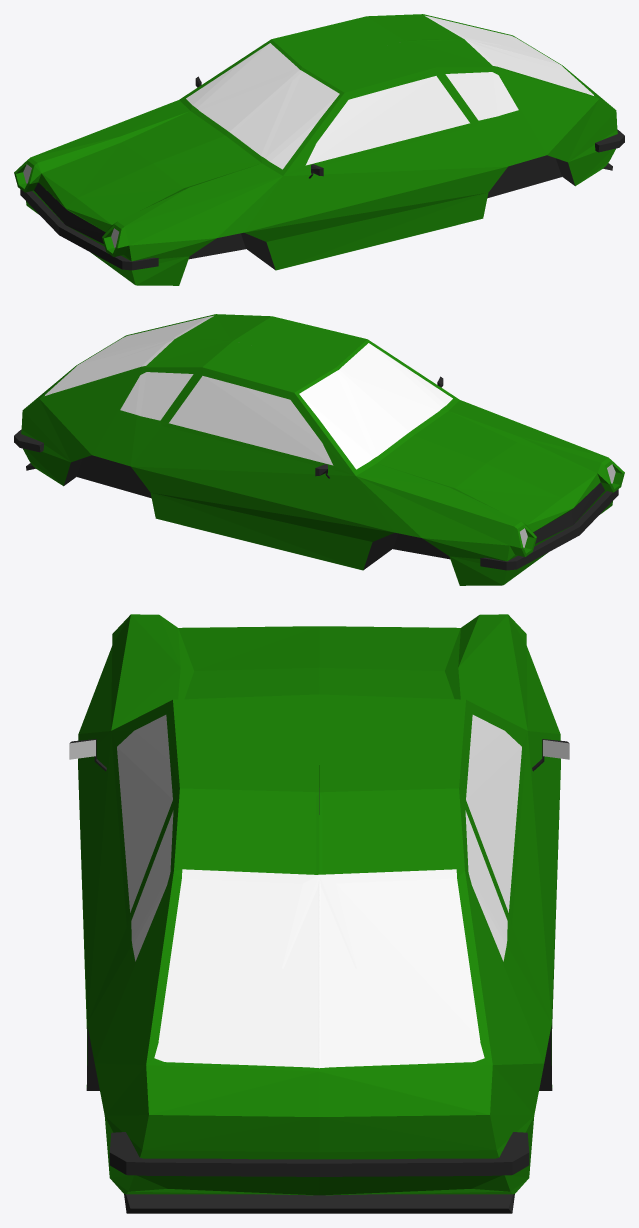
Rendered from Ford Pinto (colored V1 FIXED).glb.
3 views of the same model, one above another, from view 1: azimuth 30°, elevation 25°; view 2: azimuth 150°, elevation 25°; view 3: azimuth 270°, elevation 25° (orthographic). The views are drawn at different scales.
Visible parts, largest first — view 1: Cube; view 2: Cube; view 3: Cube.
Part boxes in pixels (x1=…): Cube: x1=14, y1=14, x2=624, y2=285; Cube: x1=14, y1=314, x2=624, y2=585; Cube: x1=69, y1=614, x2=569, y2=1213.
Size of the model in its own units: 4.18 by 1.09 by 1.74.
